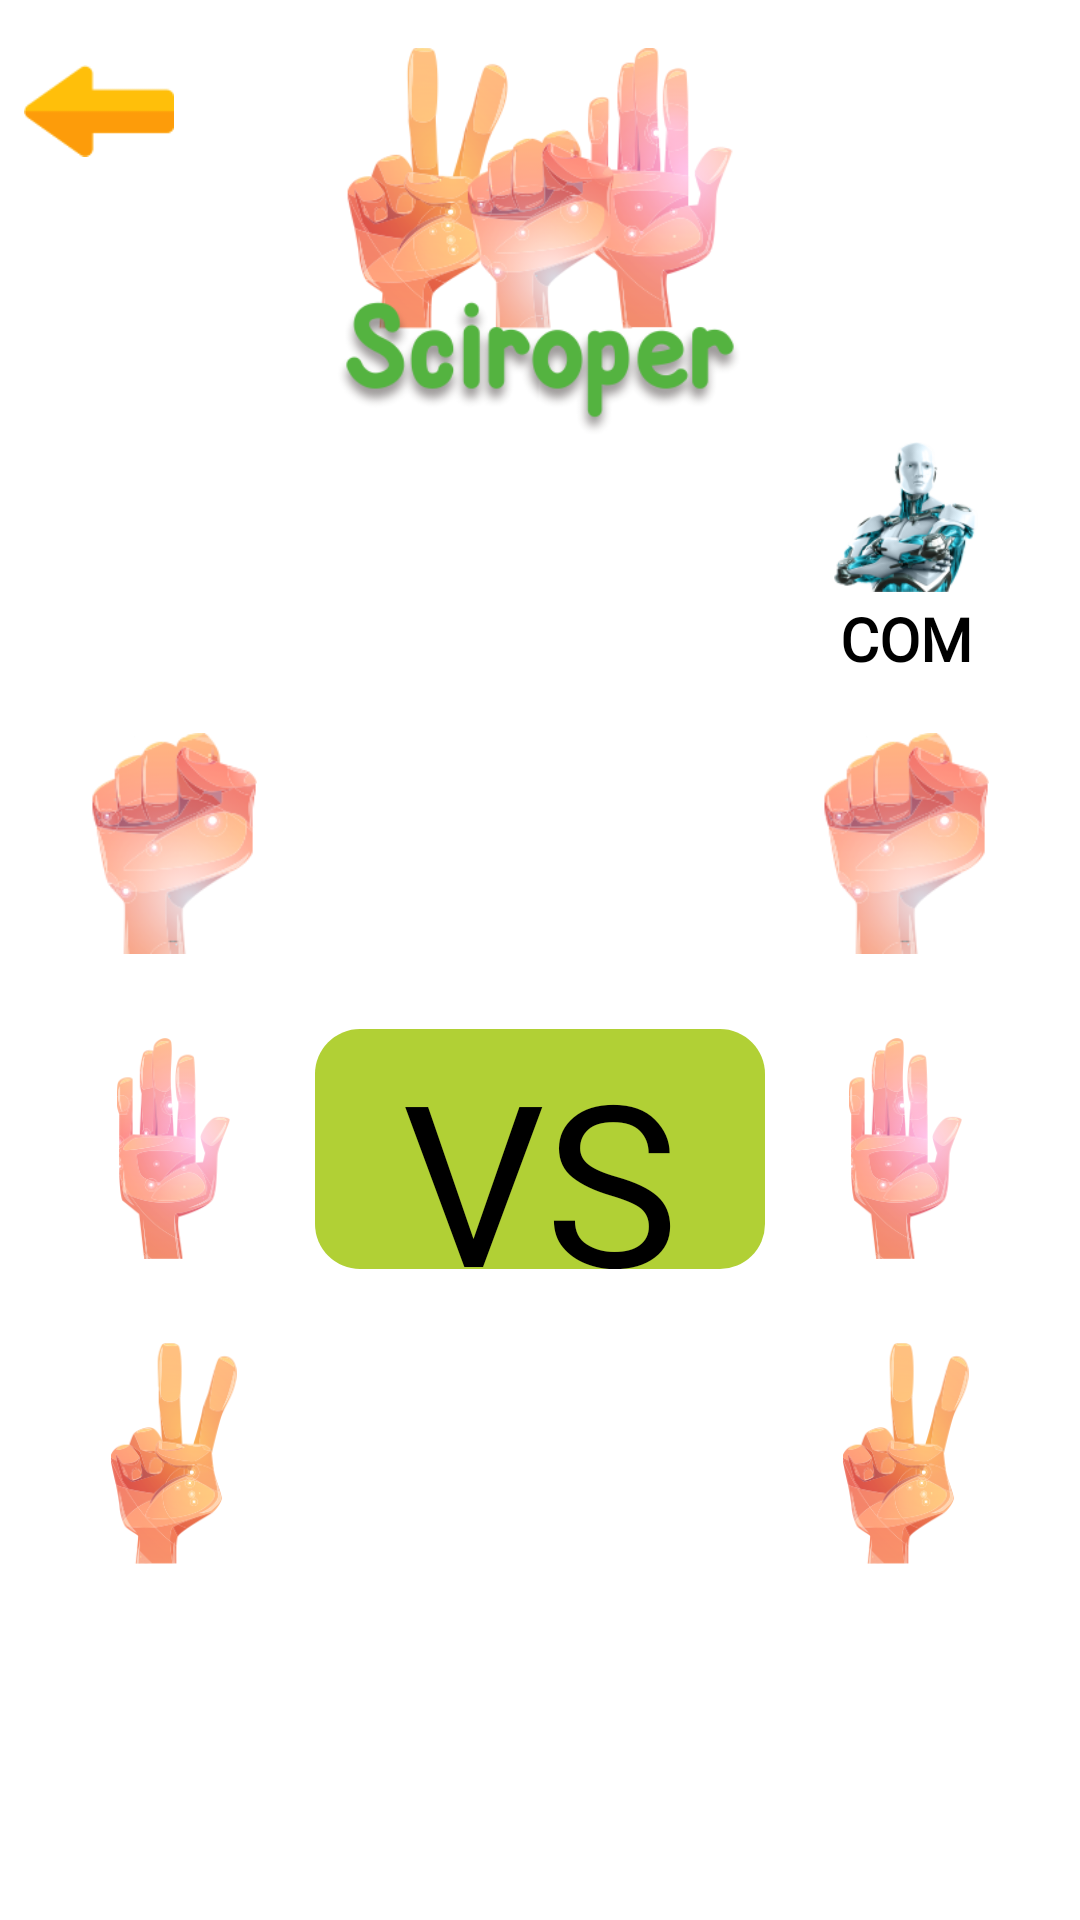

Icons on this 1080 × 1920 Android screen, each with the point to tap as [x,y]:
back: [99,111]
Paper: [173,1148], [905,1148]
Rock: [174,843], [906,843]
Scissors: [174,1453], [906,1453]
